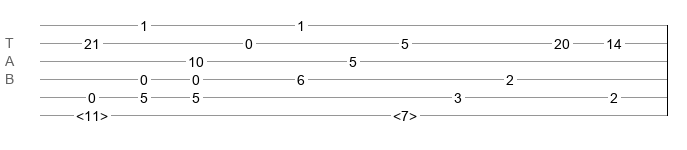0: (88, 90, 96, 100), (140, 72, 148, 82), (192, 72, 200, 82), (245, 36, 253, 46)
1: (140, 18, 148, 28), (297, 18, 305, 28)
10: (188, 54, 204, 64)
14: (606, 36, 622, 46)
2: (506, 72, 514, 82), (610, 90, 618, 100)
20: (554, 36, 570, 46)
21: (84, 36, 100, 46)
3: (454, 90, 462, 100)
5: (140, 90, 148, 100), (192, 90, 200, 100), (349, 54, 357, 64), (401, 36, 409, 46)
6: (297, 72, 305, 82)
harmonic: (76, 108, 108, 118), (393, 108, 417, 118)
